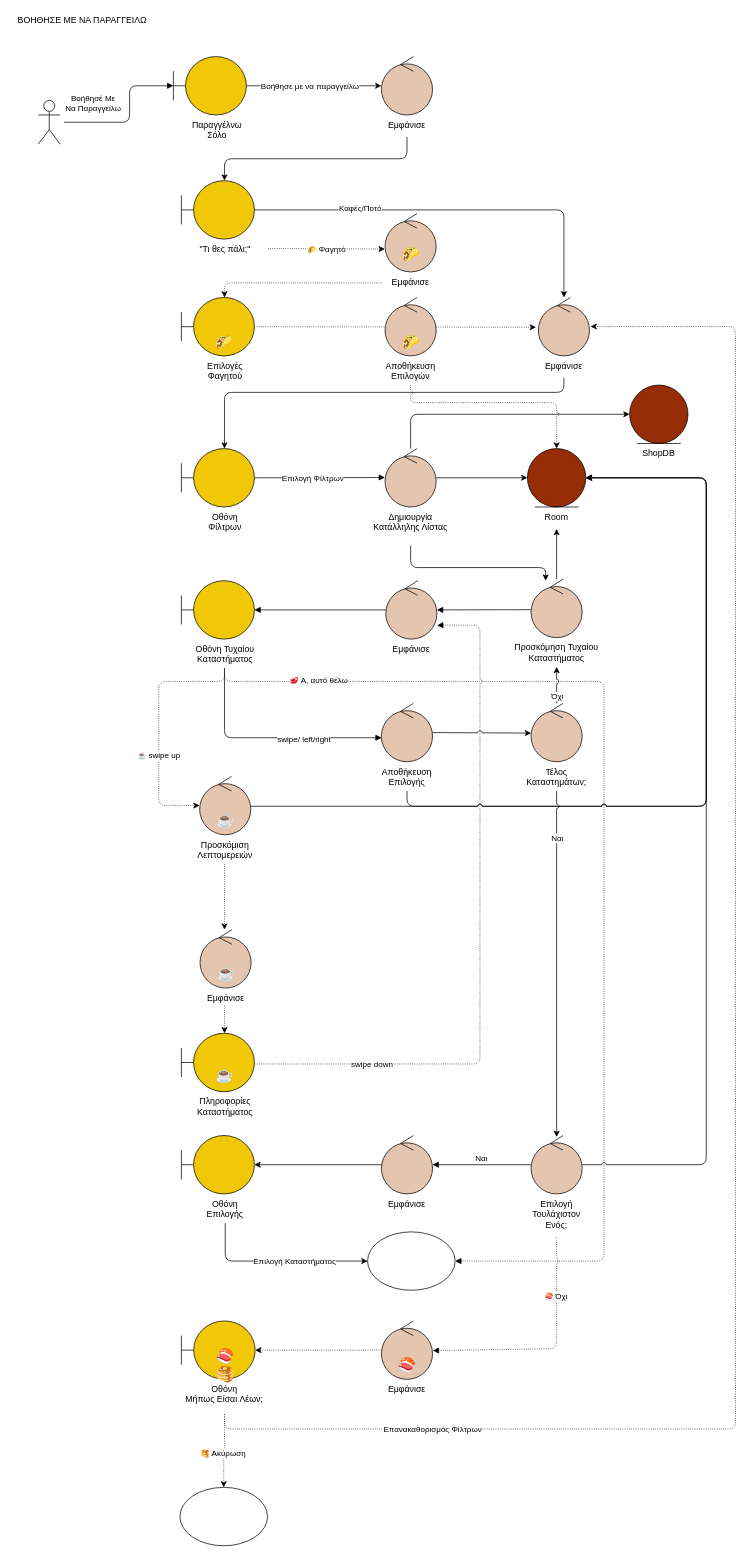
The diagram is 754 pixels wide and 1559 high, and some of its shapes have lost their labels. The shapes that lost their labels are listed below. From the top down, each one's centre as x and y in pixels, then its label:
(x=49, y=122): Πελάτης
(x=411, y=1260): Παραγγελία
(x=223, y=1516): Αρχική Οθόνη
